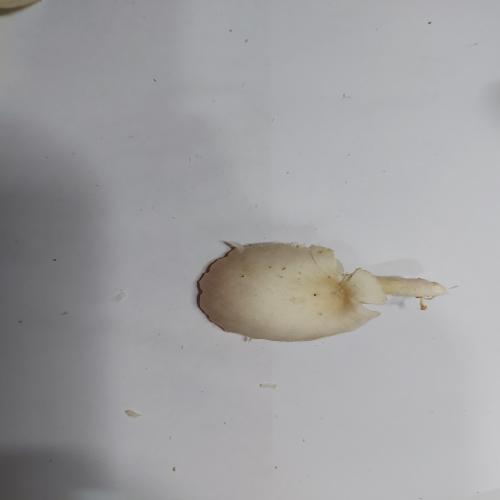Oyster Mushroom: (195, 239, 449, 343)
